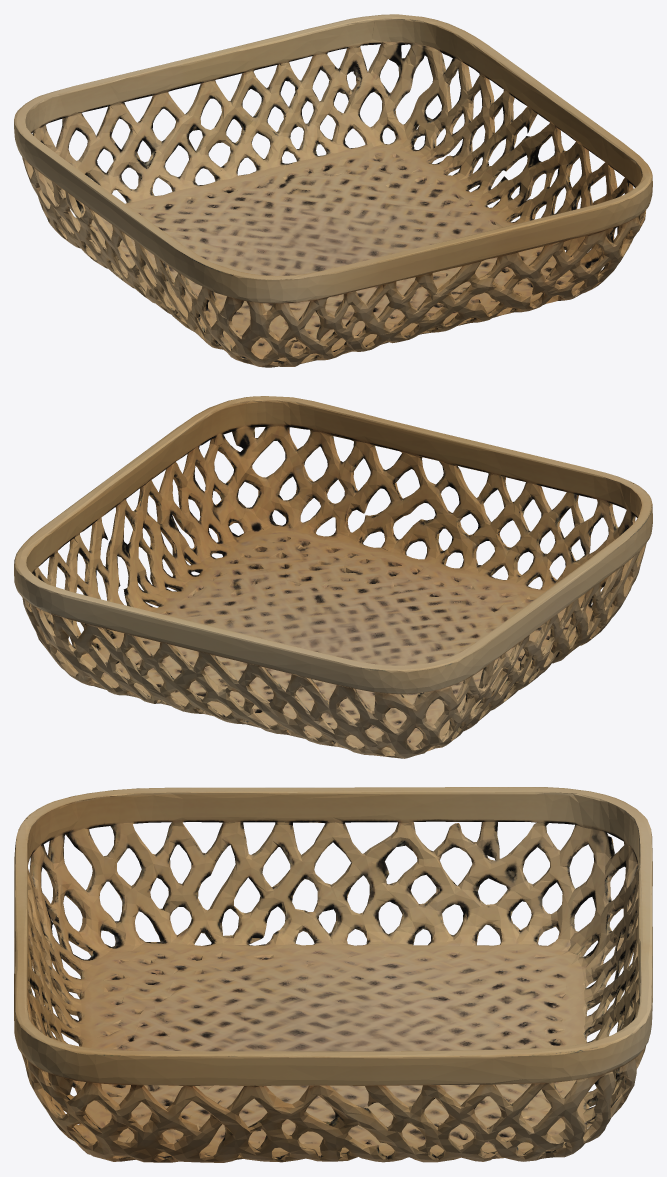
The picture shows the model from 3 angles, top to bottom: view 1: azimuth 30°, elevation 25°; view 2: azimuth 150°, elevation 25°; view 3: azimuth 270°, elevation 25°; orthographic projection. The views are drawn at different scales.
Parts seen in each view (by area): view 1: geometry_0; view 2: geometry_0; view 3: geometry_0.
Boxes of the visible parts, box(x1,y1,x2,y2) form: geometry_0: box(14, 14, 652, 367); geometry_0: box(14, 396, 652, 758); geometry_0: box(14, 787, 652, 1162).
Bounding box in the file's own units: 0.5994 × 0.1457 × 0.5994.
1 material, 1 textured.
